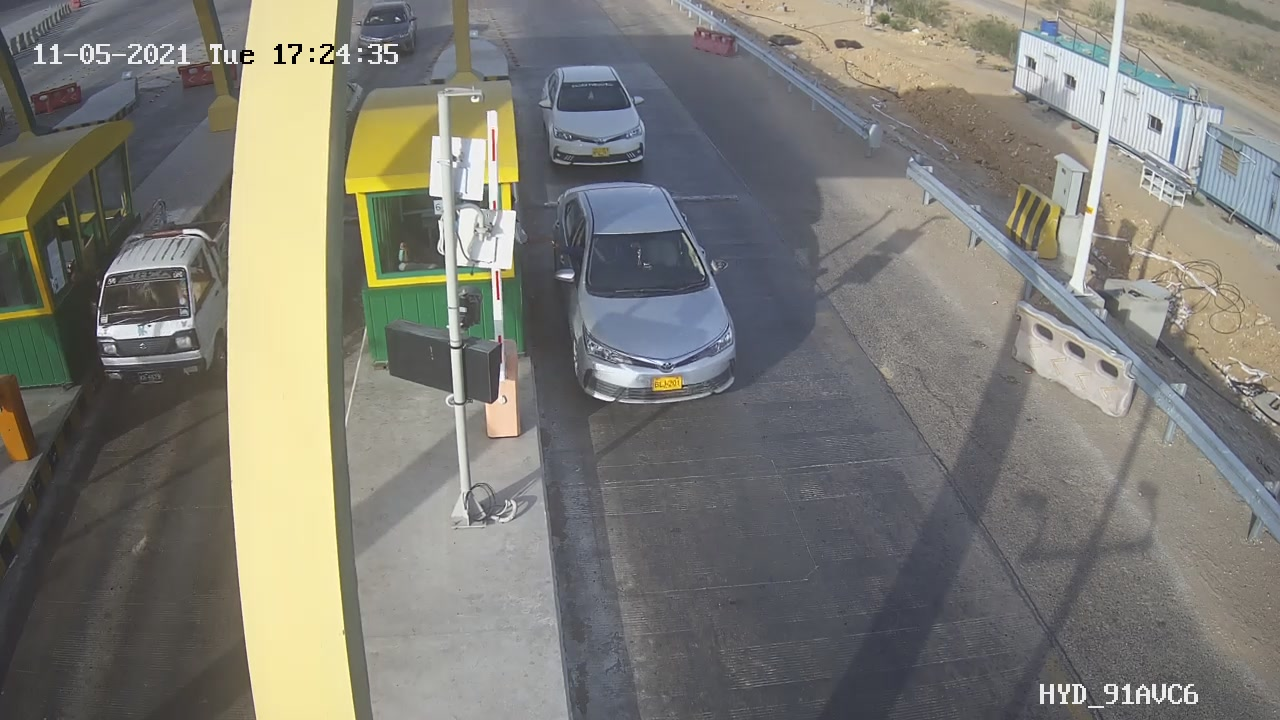F1: (533, 172, 765, 421), (521, 48, 669, 181)
